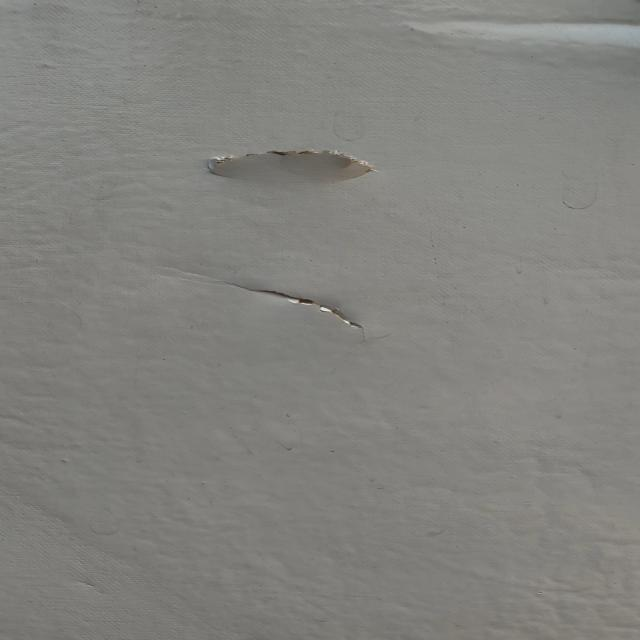Scratches: (197, 262, 383, 344), (181, 134, 381, 190)
